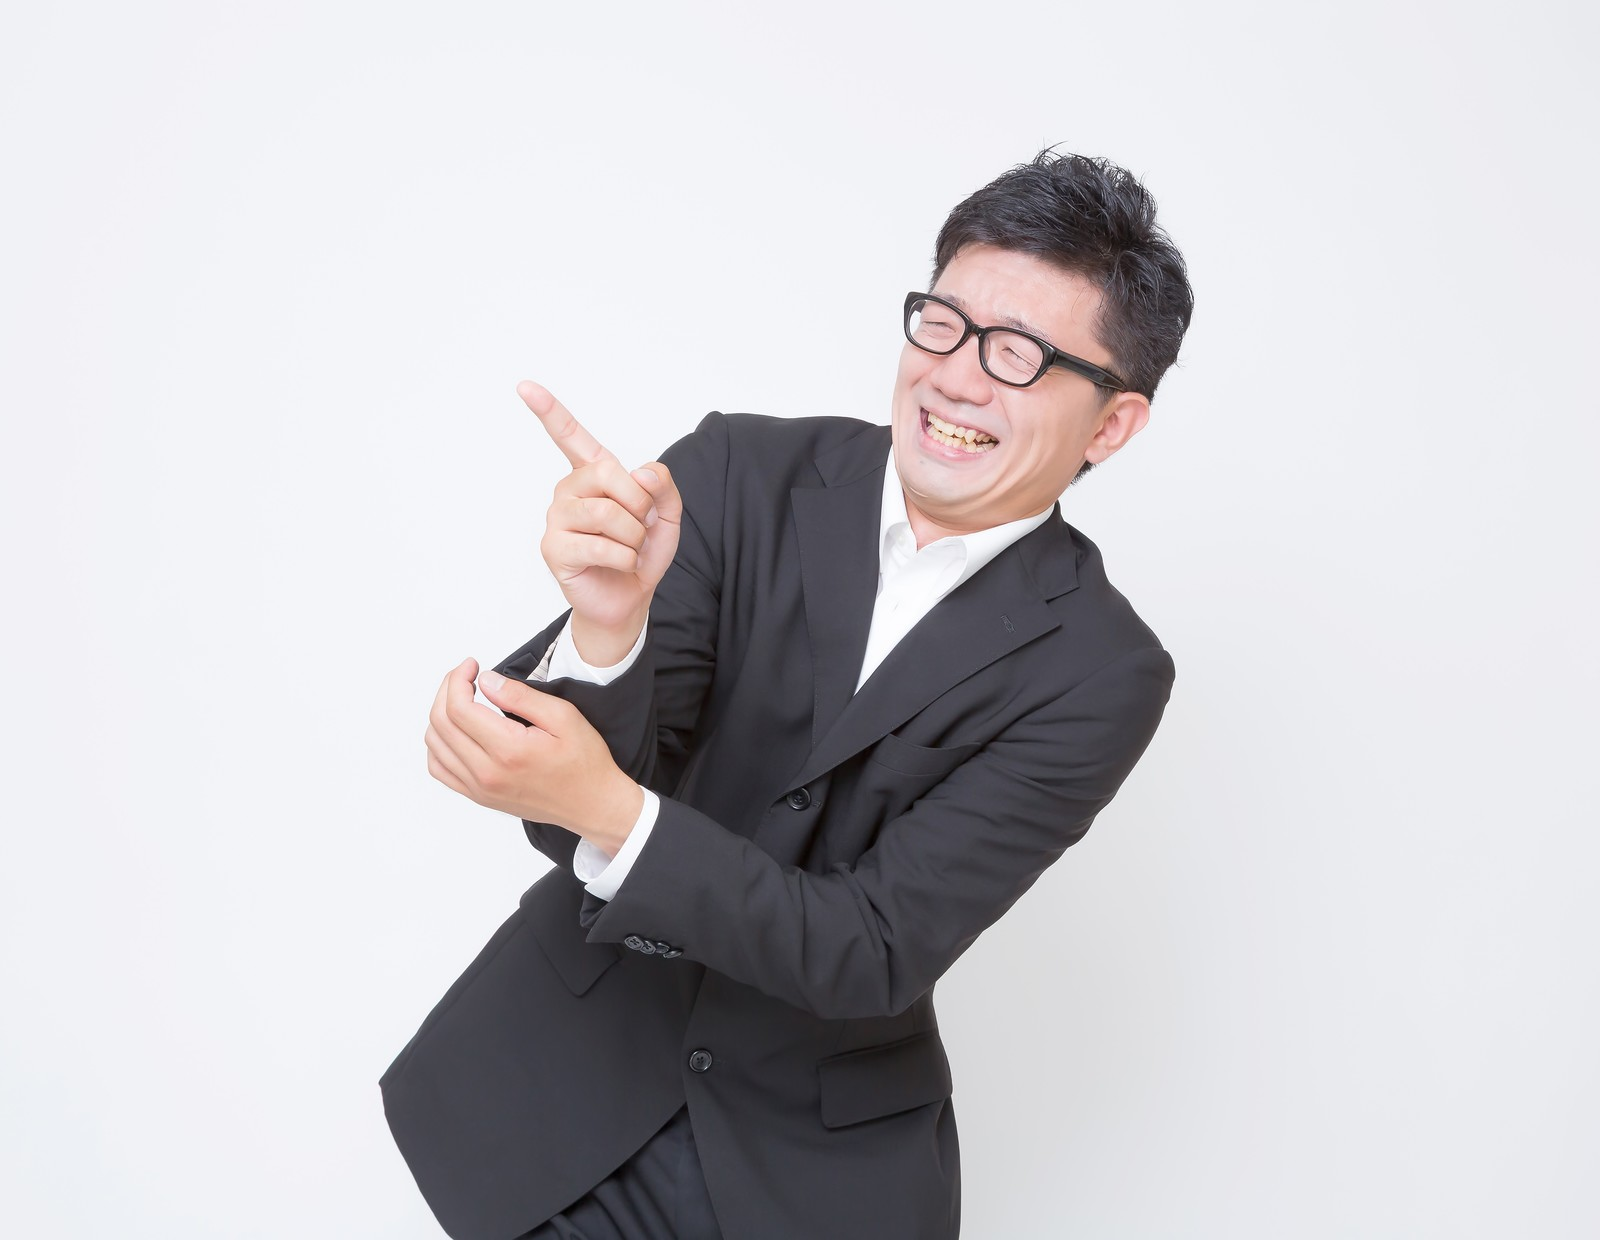face: (897, 246, 1153, 525)
hand: (420, 659, 647, 858), (513, 378, 682, 635)
